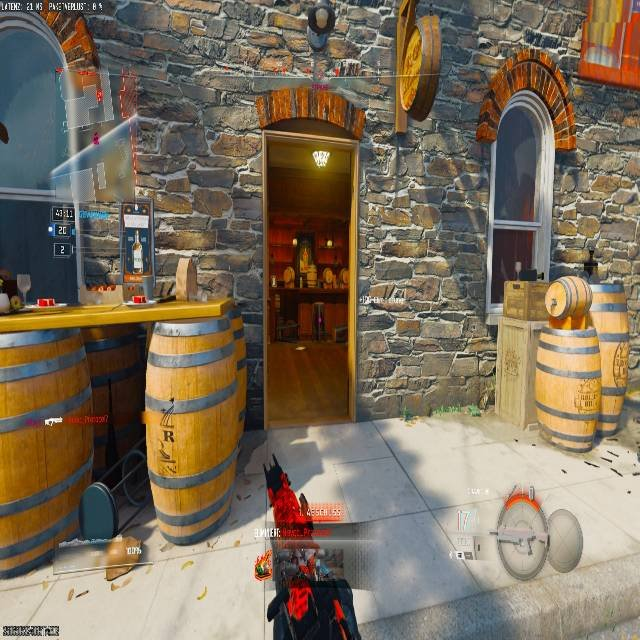player: (253, 534, 364, 639)
